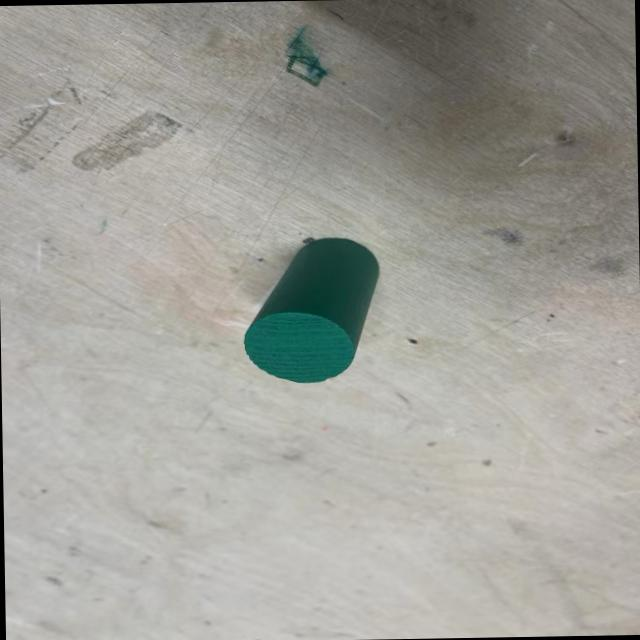green_cylinder: (242, 234, 382, 384)
